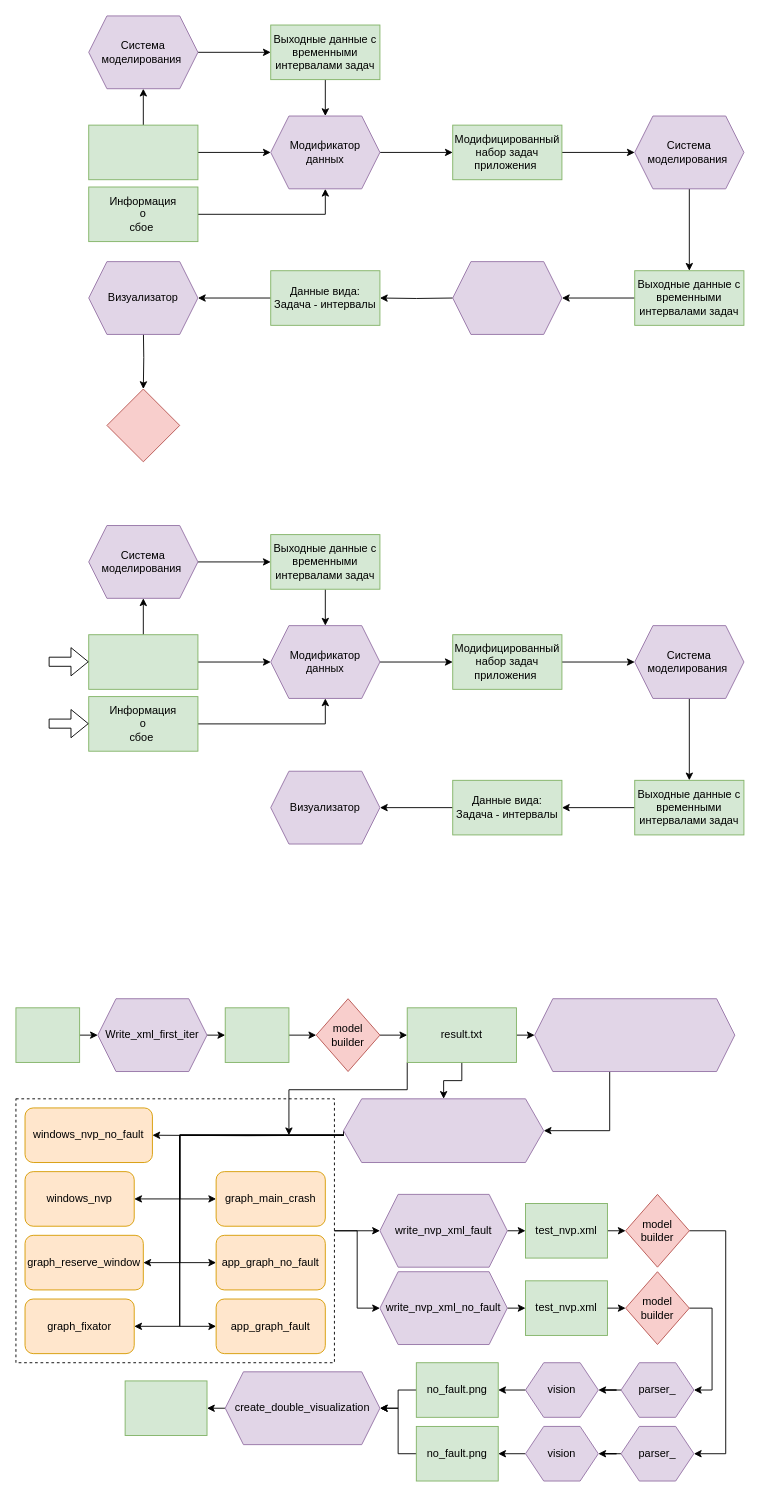
Some shapes in this 760 by 1497 pixel diagram are drawn without their labels. The centre of each missing label's shape, as x and y in pixels:
"create_map_window_to_task_name" belongs at point (634, 1035).
"Find_carsh_window_crash_set" belongs at point (443, 1130).
"input.ini" belongs at point (47, 1034).
"result.png" belongs at point (165, 1408).
"test.xml" belongs at point (256, 1034).
"Информация о задачах приложения" belongs at point (143, 661).
"Исходный набор задач приложения" belongs at point (143, 152).
"Картинка" belongs at point (143, 425).
"Парсер" belongs at point (507, 297).
